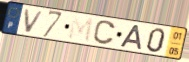0: (145, 27, 167, 54)
7: (41, 9, 65, 39)
A: (118, 24, 143, 51)
C: (92, 20, 117, 47)
M: (66, 15, 95, 44)
V: (24, 8, 46, 35)
